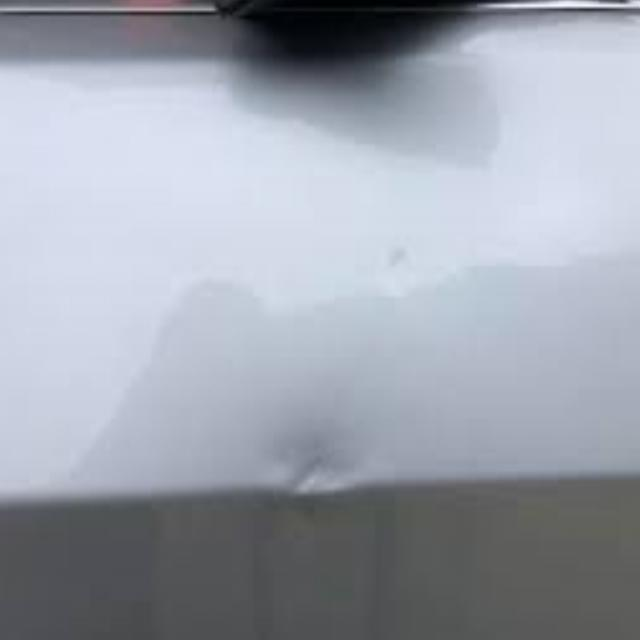dents: (271, 407, 372, 519)
